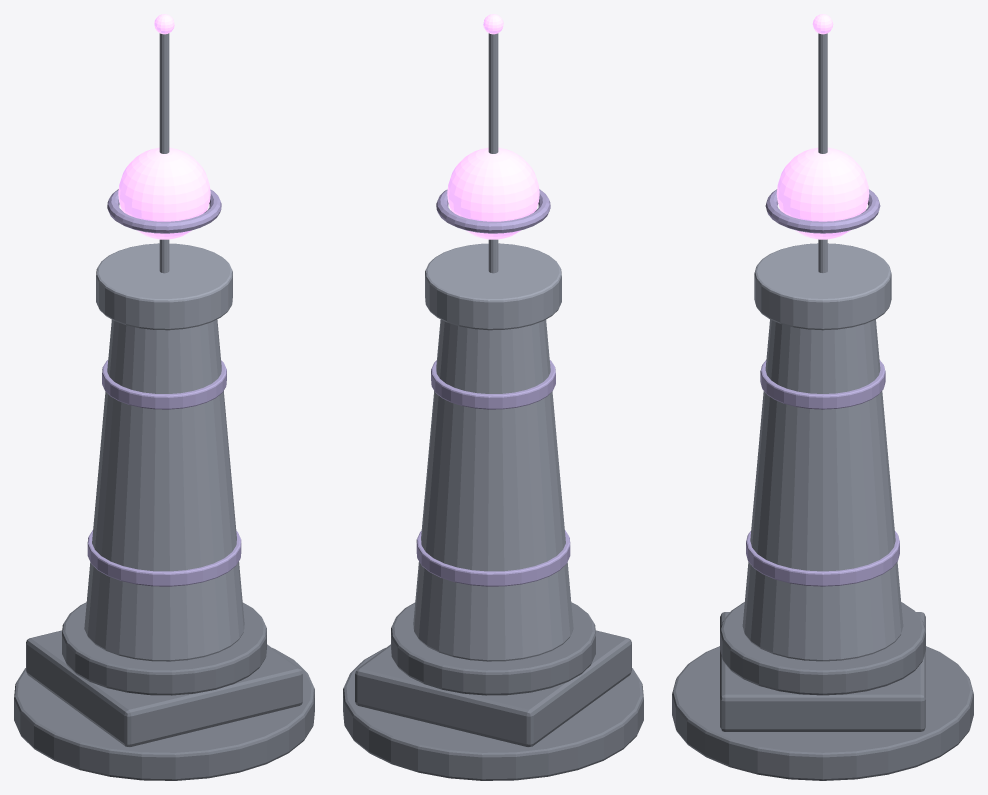
File: master.glb
The picture shows the model from 3 angles, left to right: view 1: azimuth 30°, elevation 25°; view 2: azimuth 150°, elevation 25°; view 3: azimuth 270°, elevation 25°; orthographic projection.
Parts seen in each view (by area): view 1: shaft, base_disc, plinth, crown, step, orb, band_low, band_high, cradle_ring, mast; view 2: shaft, base_disc, plinth, crown, step, orb, band_low, band_high, cradle_ring, mast; view 3: shaft, base_disc, crown, plinth, step, orb, band_low, band_high, cradle_ring, mast.
Part boxes in pixels (<box>): shaft: <box>84,319,244,661</box>; base_disc: <box>14,648,314,780</box>; plinth: <box>26,630,302,747</box>; crown: <box>96,243,232,330</box>; step: <box>62,602,266,695</box>; orb: <box>118,147,210,239</box>; band_low: <box>87,530,241,586</box>; band_high: <box>102,360,226,409</box>; cradle_ring: <box>107,189,221,233</box>; mast: <box>159,33,169,273</box>; shaft: <box>413,319,573,661</box>; base_disc: <box>343,648,643,780</box>; plinth: <box>355,630,631,747</box>; crown: <box>425,243,561,330</box>; step: <box>391,602,595,695</box>; orb: <box>447,147,539,239</box>; band_low: <box>416,530,570,586</box>; band_high: <box>431,360,555,409</box>; cradle_ring: <box>436,189,550,233</box>; mast: <box>488,33,498,273</box>; shaft: <box>742,319,903,661</box>; base_disc: <box>672,646,973,780</box>; crown: <box>754,243,891,330</box>; plinth: <box>720,612,925,731</box>; step: <box>720,602,925,695</box>; orb: <box>776,147,869,239</box>; band_low: <box>746,531,899,586</box>; band_high: <box>760,360,885,409</box>; cradle_ring: <box>765,189,880,233</box>; mast: <box>818,33,827,272</box>.
Size of the model in its own units: 1.76 by 4.53 by 1.76.
